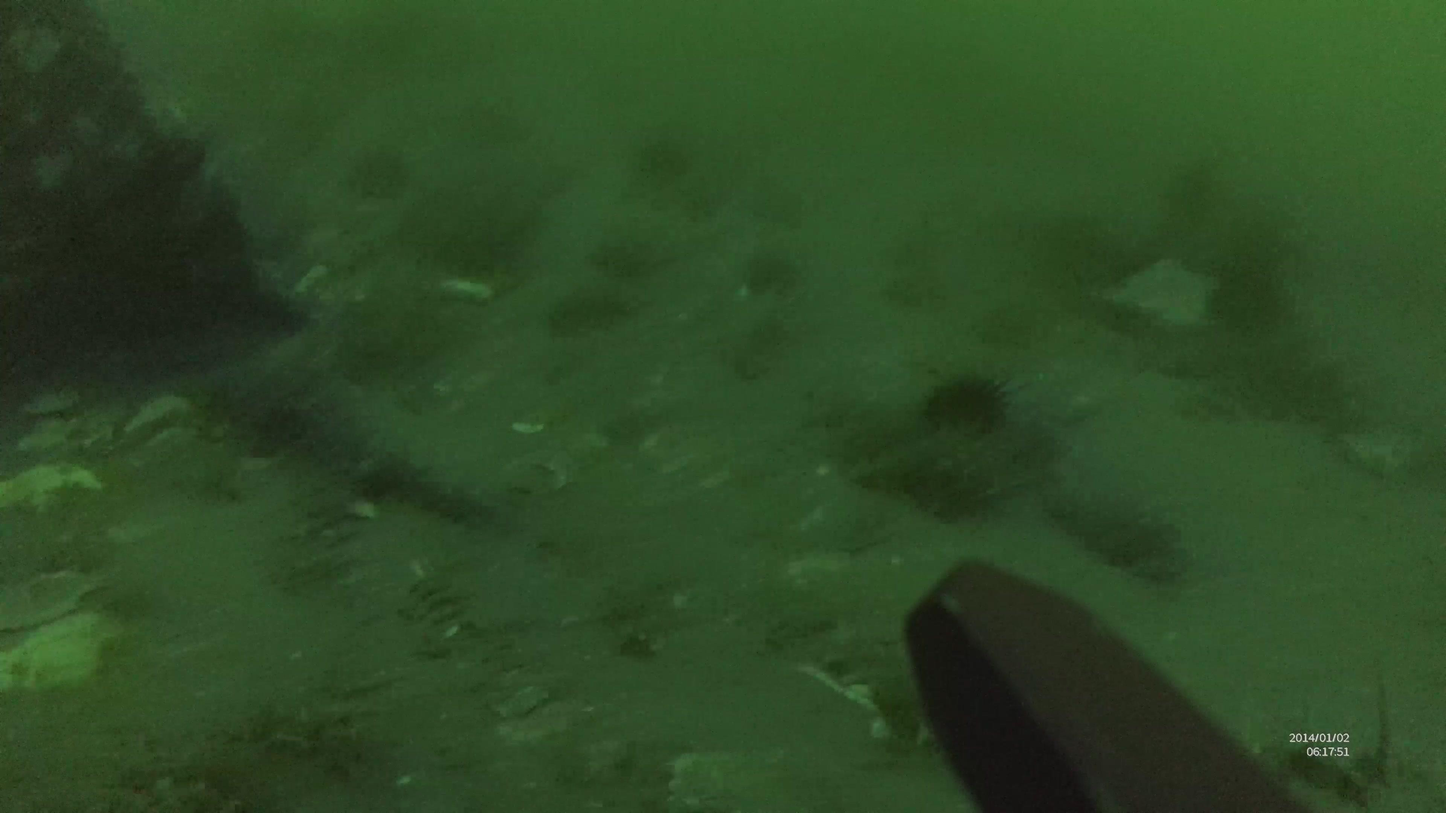scallop: (0, 611, 122, 688), (0, 574, 107, 629)
starfish: (918, 365, 1015, 437)
